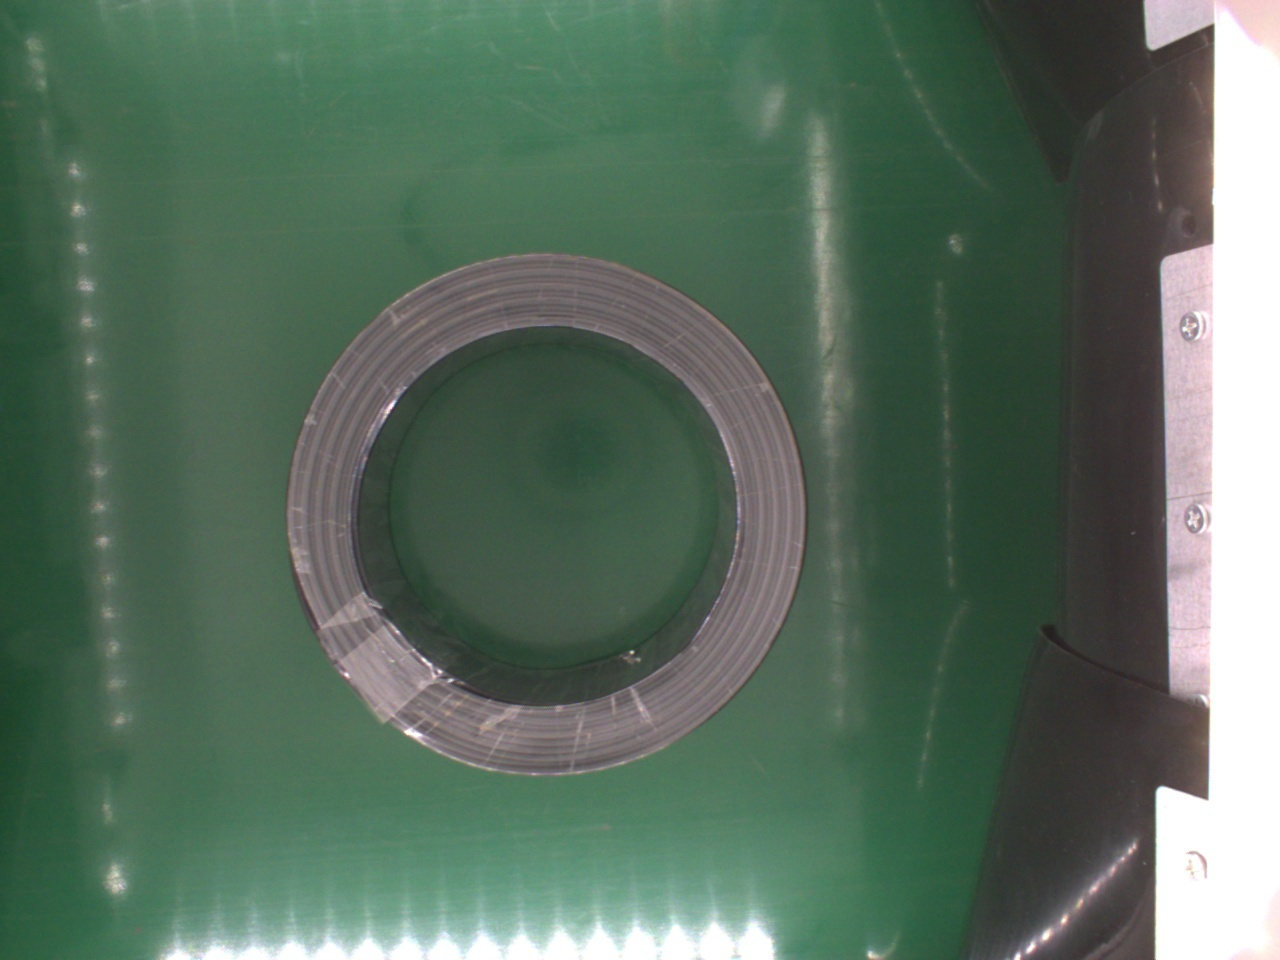black: (279, 250, 802, 779)
